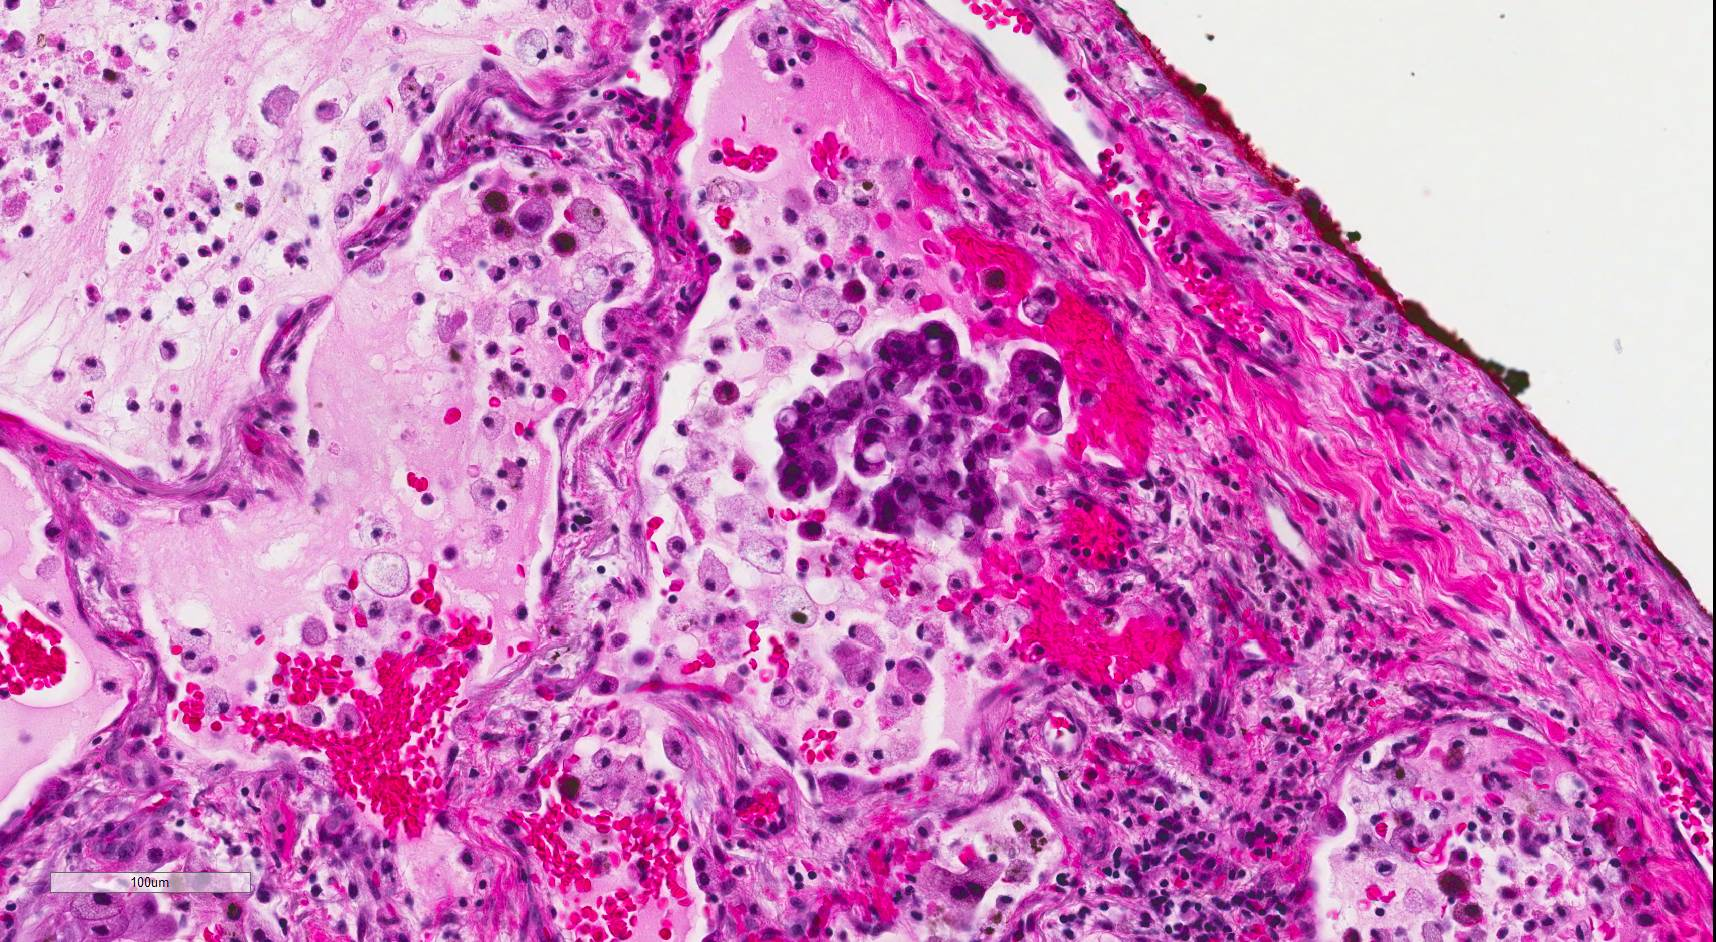stas: (771, 314, 1071, 541)
